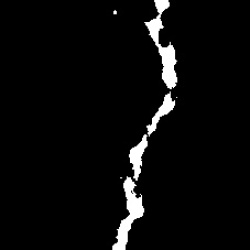crack: (129, 90, 174, 179), (143, 1, 175, 90), (110, 177, 143, 248)
